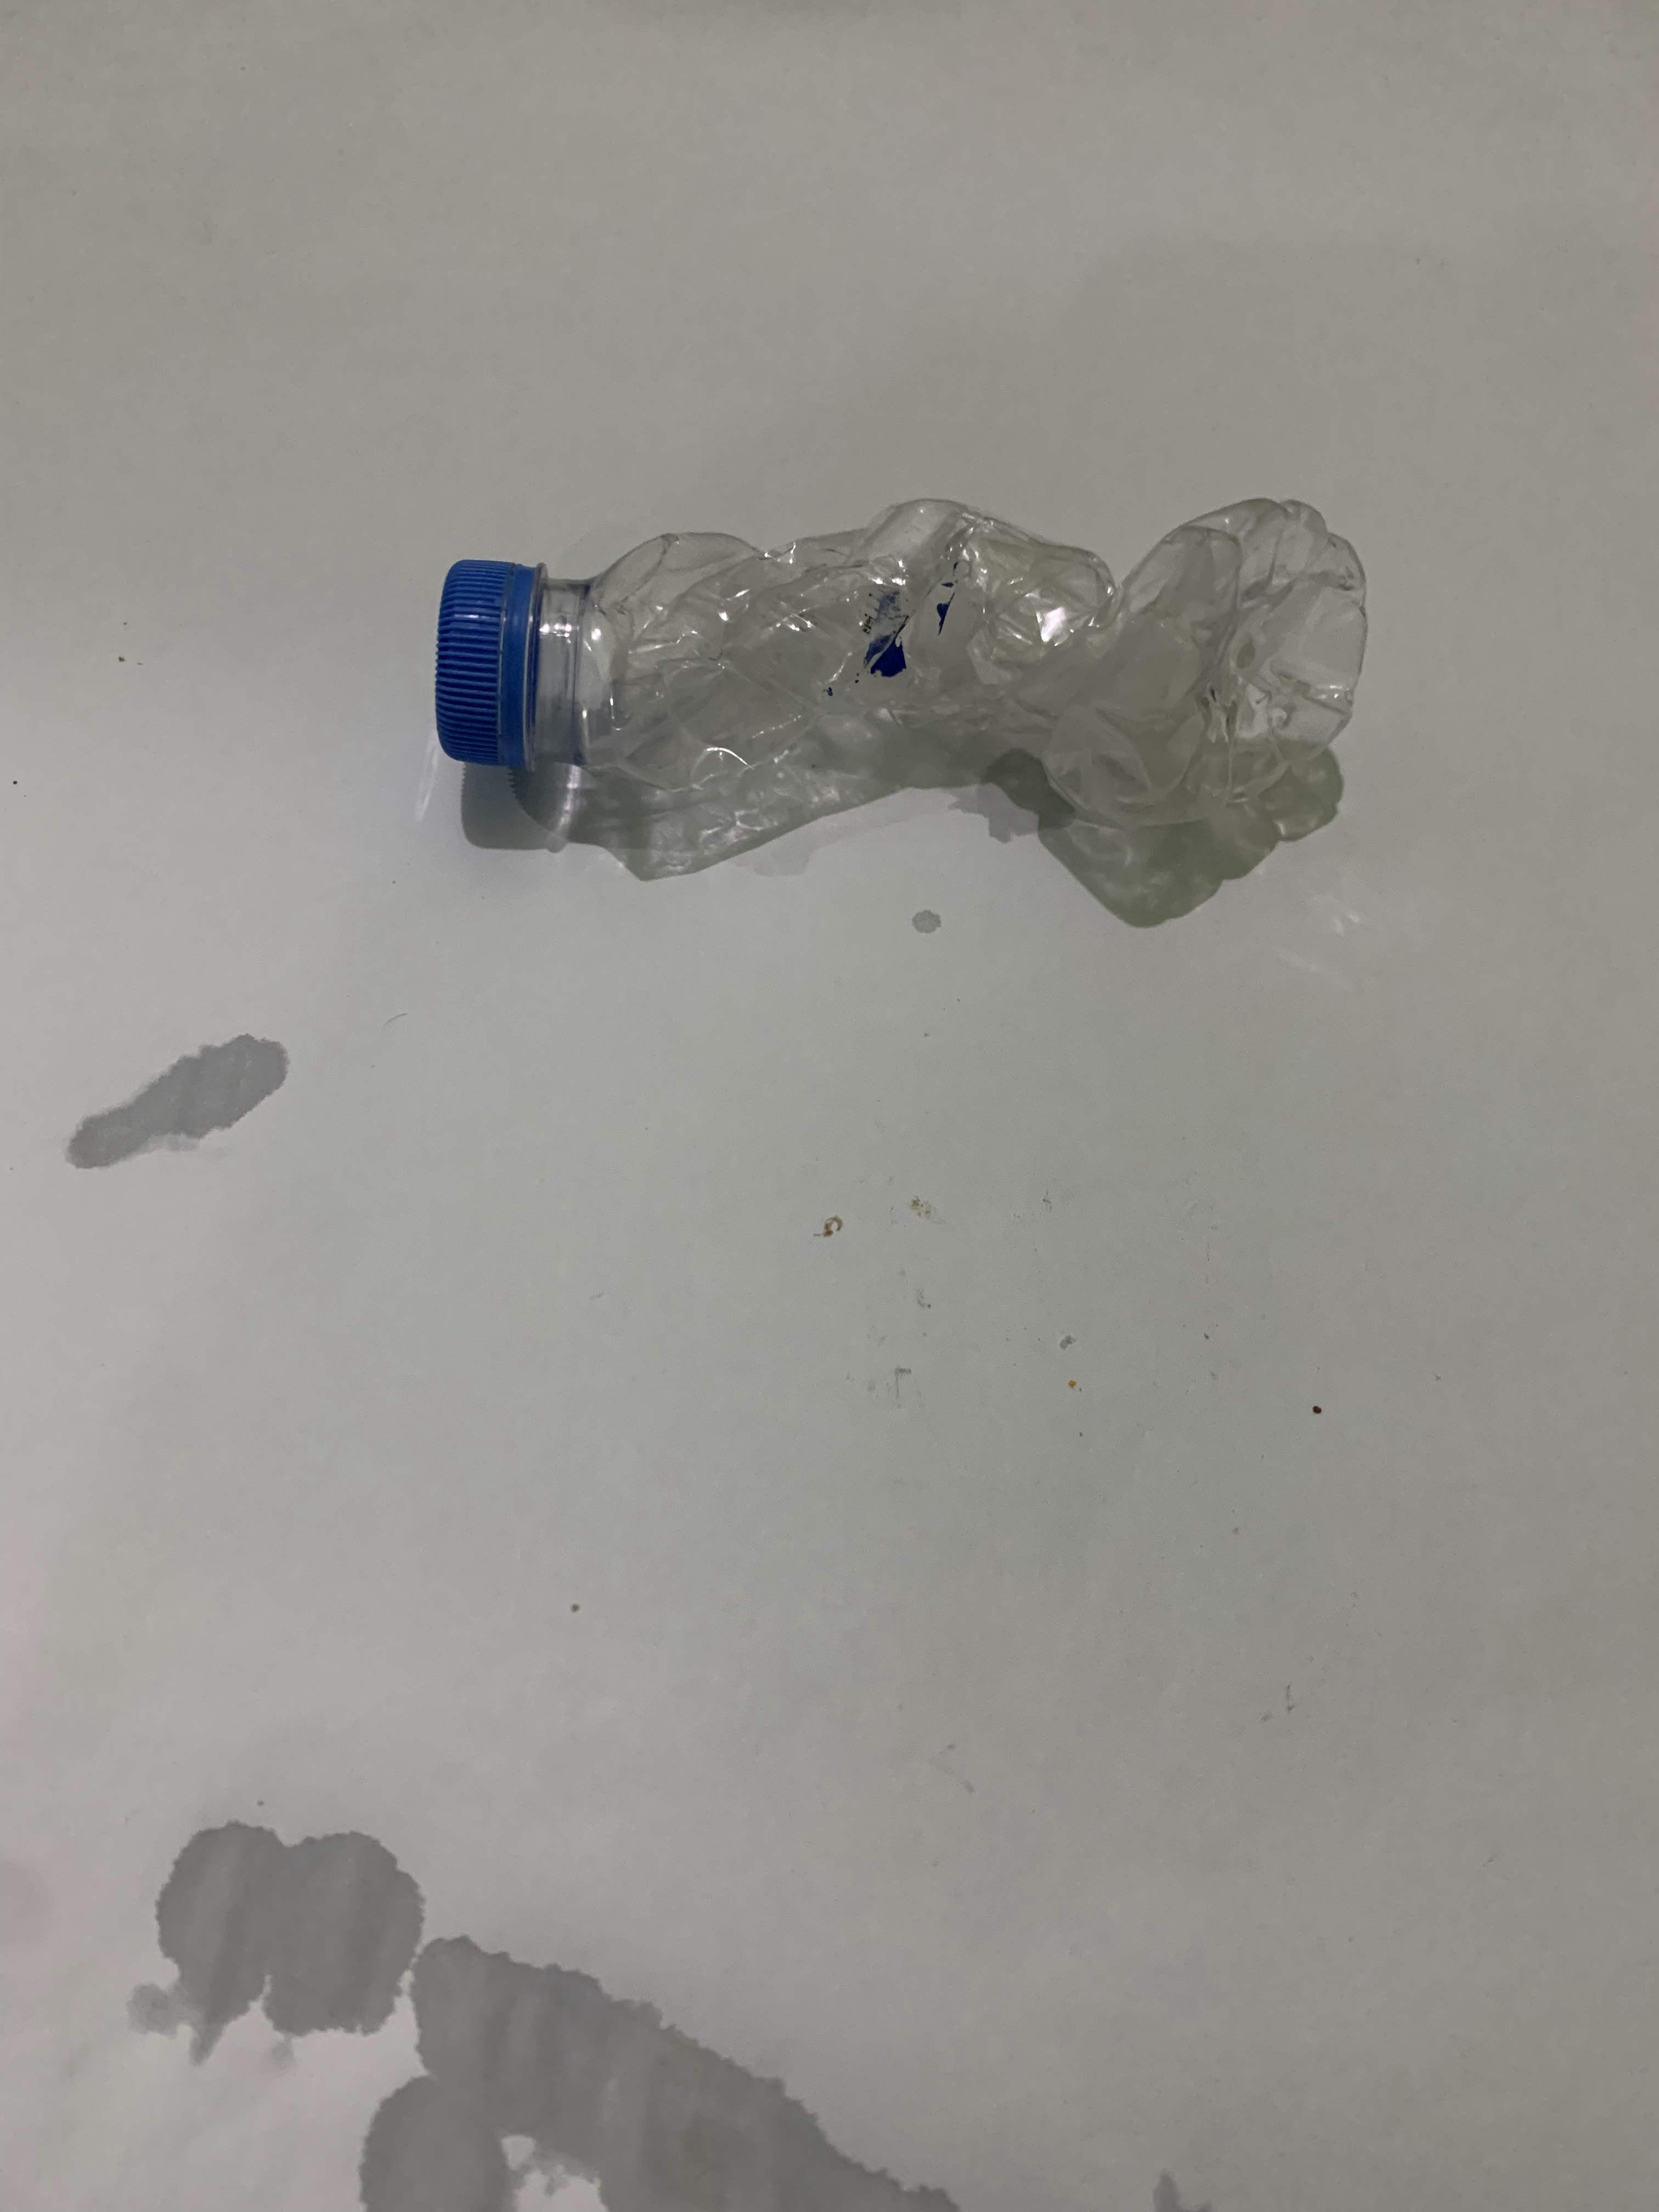bottle: (14, 482, 132, 927)
